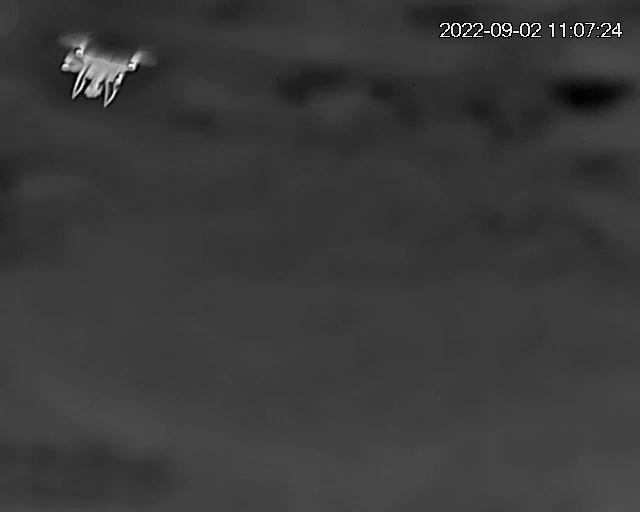DJI-Phantom: (56, 35, 156, 106)
